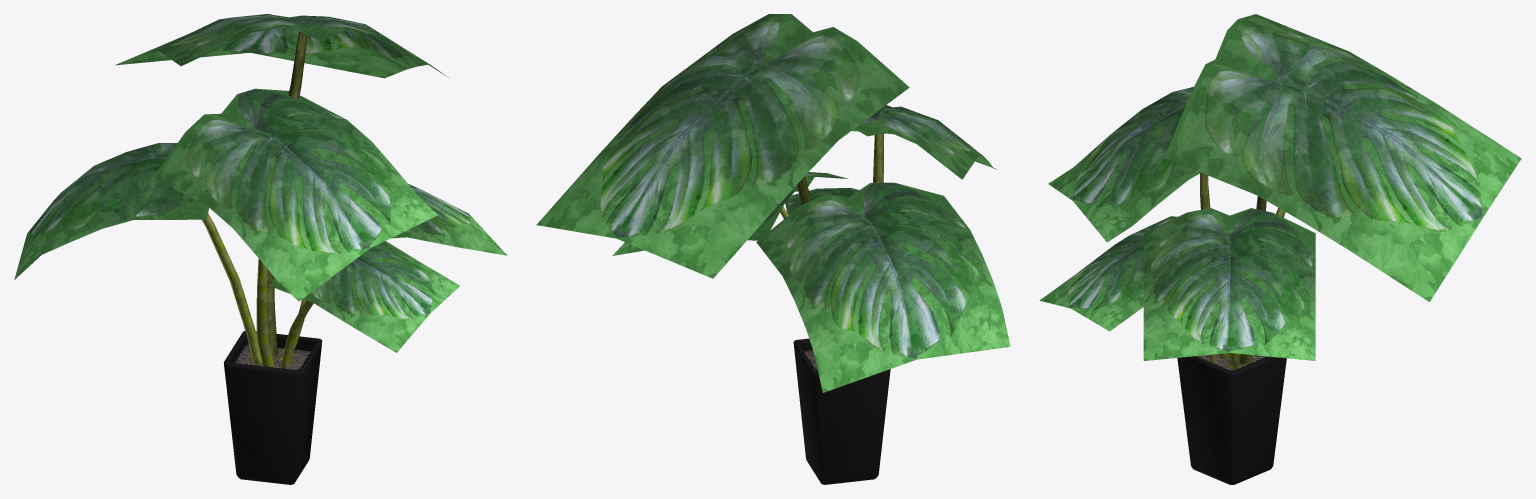
File: Furniture_foliageplant_03b_LOD0 #39157.fbx
3 renders of one model, left to right at view 1: azimuth 30°, elevation 25°; view 2: azimuth 150°, elevation 25°; view 3: azimuth 270°, elevation 25°, orthographic.
Visible parts, largest first — view 1: F_foliageplant_03b_2, F_foliageplant_03b_1; view 2: F_foliageplant_03b_2, F_foliageplant_03b_1; view 3: F_foliageplant_03b_2, F_foliageplant_03b_1.
Boxes of the visible parts, <box> form: F_foliageplant_03b_2: <box>14,14,507,368</box>; F_foliageplant_03b_1: <box>223,331,322,484</box>; F_foliageplant_03b_2: <box>536,14,1010,392</box>; F_foliageplant_03b_1: <box>793,338,890,484</box>; F_foliageplant_03b_2: <box>1039,14,1521,369</box>; F_foliageplant_03b_1: <box>1177,354,1286,484</box>.
Bounding box in the file's own units: 0.6292 × 0.6275 × 0.618.
2 materials, 2 textured.
